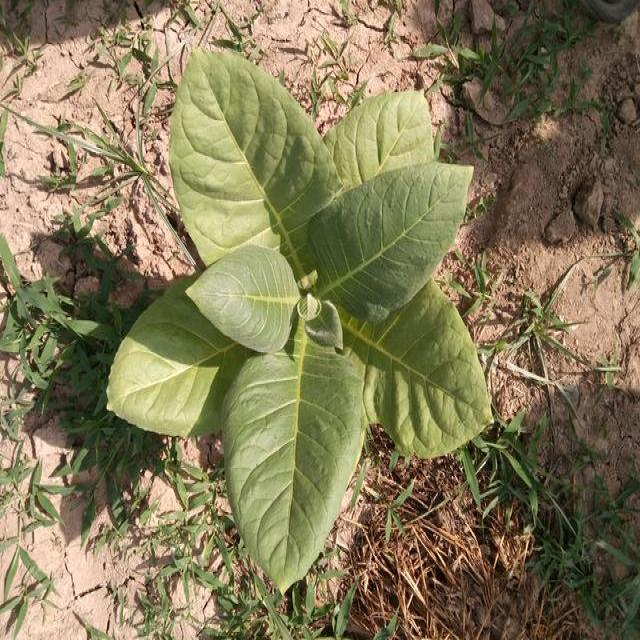crop: (103, 41, 500, 588)
